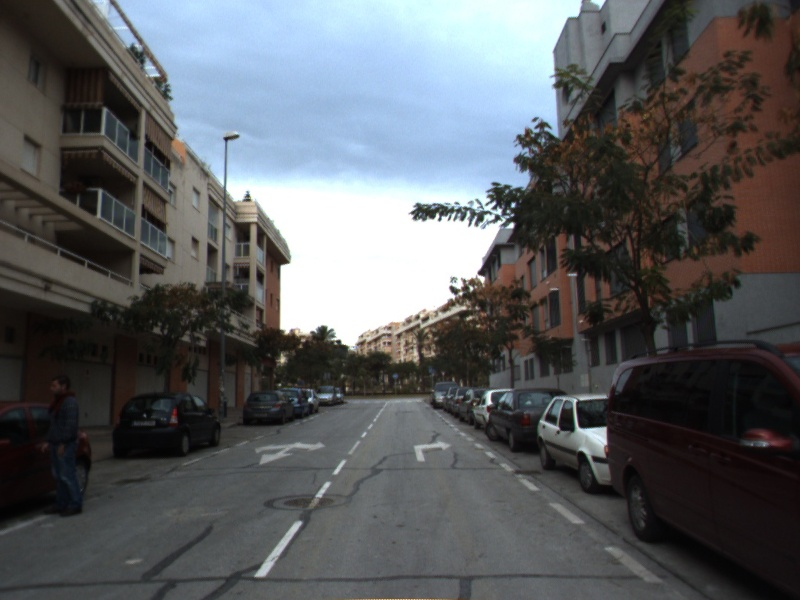RIGHT: (412, 438, 455, 463)
